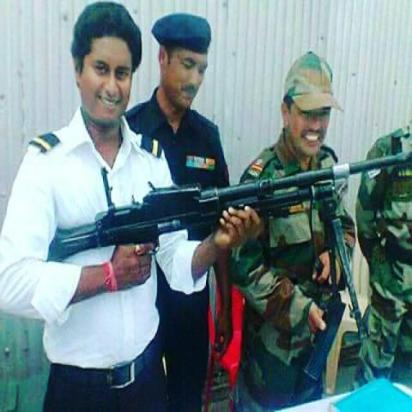Gun: (44, 150, 411, 356)
